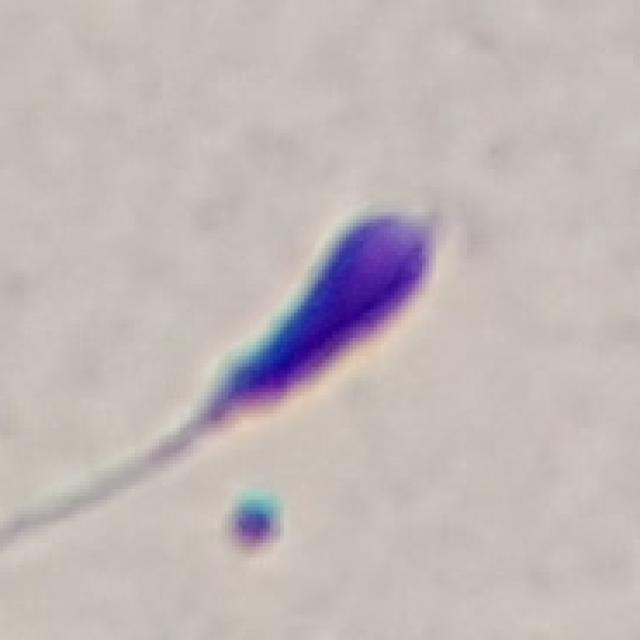abnormal sperm: (0, 194, 484, 503)
